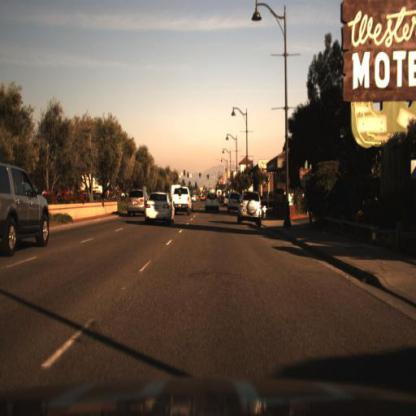car: (1, 160, 52, 252), (144, 190, 176, 228), (238, 191, 262, 225), (173, 185, 195, 215), (126, 190, 148, 217), (205, 194, 219, 217)
